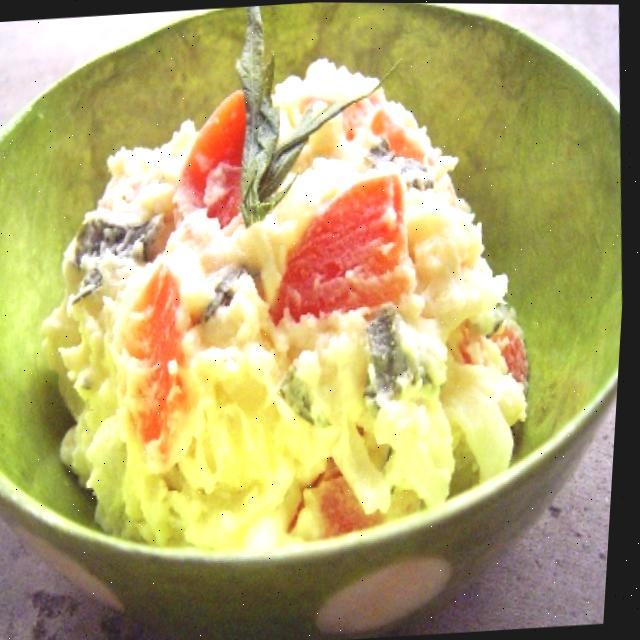蔬菜料理: (0, 0, 640, 590)
